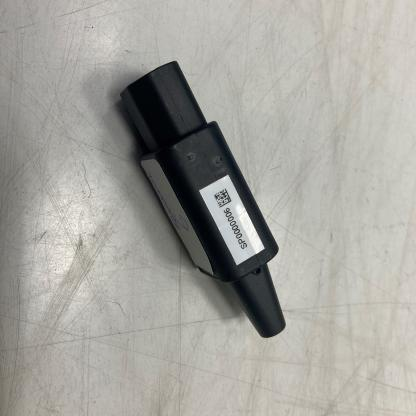SP0000006: (75, 40, 336, 353)
